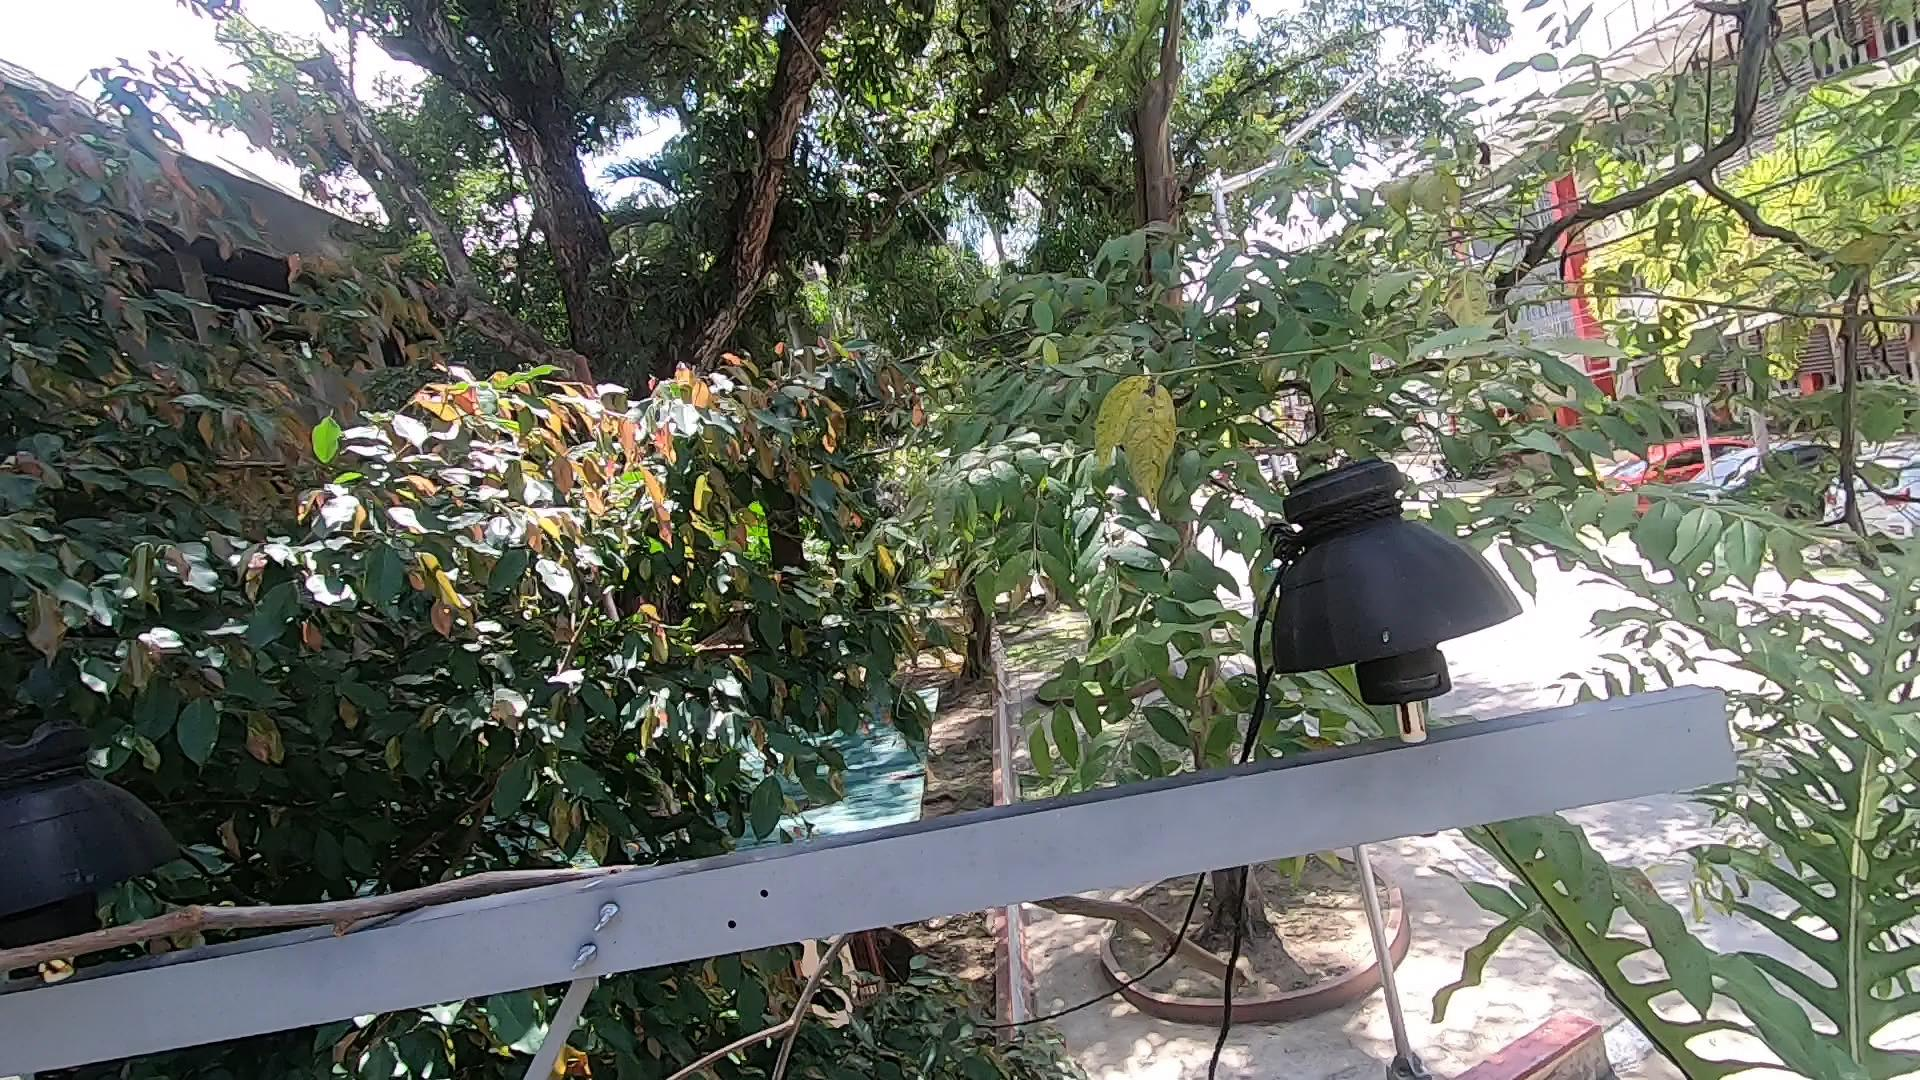tree branch: (1, 858, 640, 1000), (659, 928, 852, 1080), (1017, 898, 1258, 1000)
